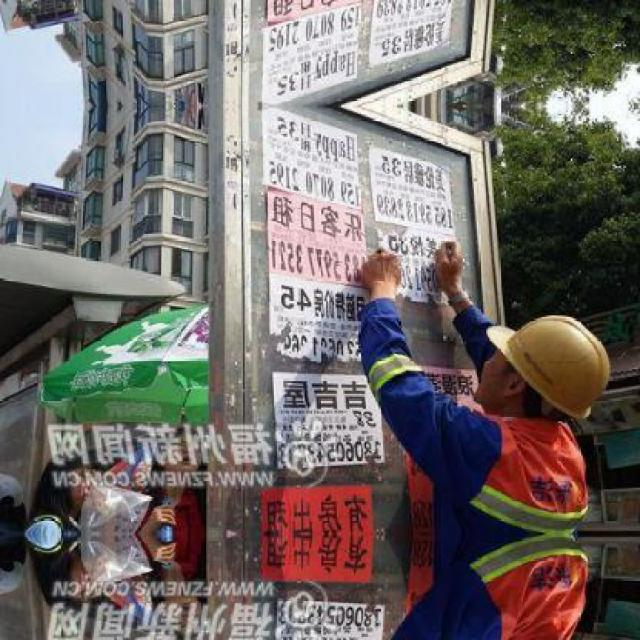Reflective-Jacket: (380, 377, 606, 640)
Safety-Helmet: (480, 308, 622, 430)
